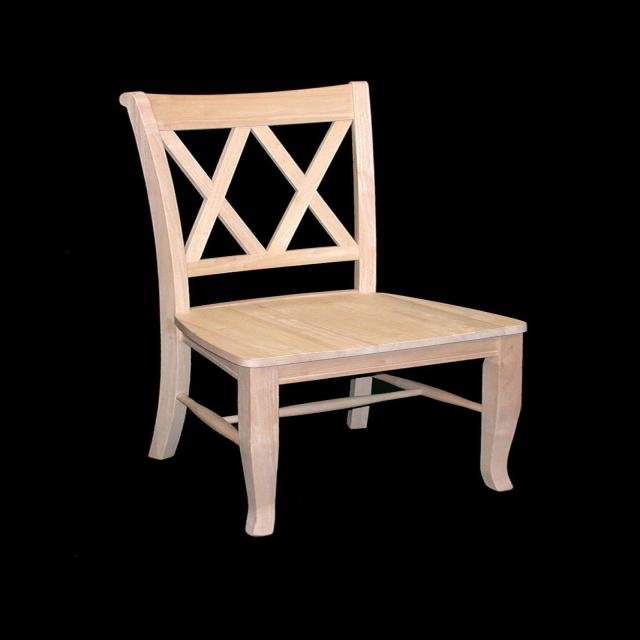chair: (122, 79, 528, 536)
